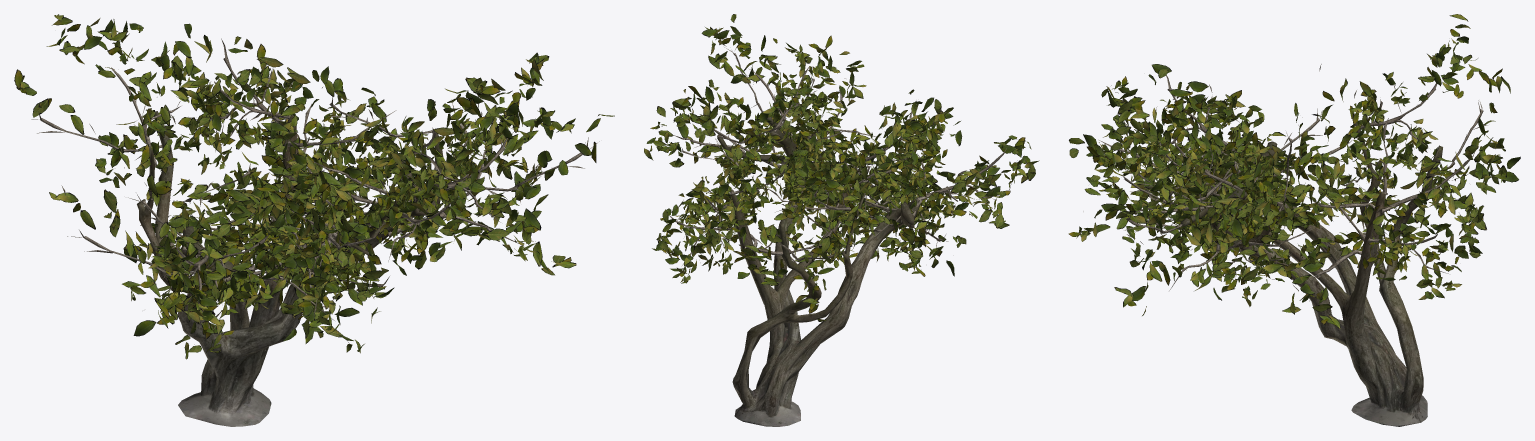
File: arv2-medio.glb
3 renders of one model, left to right at view 1: azimuth 30°, elevation 25°; view 2: azimuth 150°, elevation 25°; view 3: azimuth 270°, elevation 25°, orthographic. The views are drawn at different scales.
Parts seen in each view (by area): view 1: island_tree_02_LOD0; view 2: island_tree_02_LOD0; view 3: island_tree_02_LOD0.
Part boxes in pixels (bbox=[...]): island_tree_02_LOD0: bbox=[14, 14, 614, 426]; island_tree_02_LOD0: bbox=[644, 14, 1039, 426]; island_tree_02_LOD0: bbox=[1068, 14, 1520, 426].
Bounding box in the file's own units: 3.89 × 3.4 × 4.11.
Materials: 3 (3 with a texture image).
